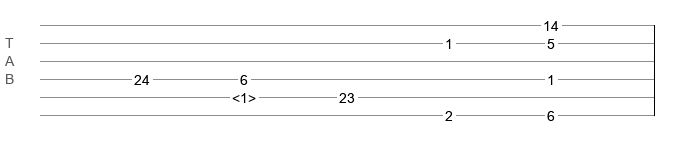1: (445, 36, 453, 46), (547, 72, 555, 82)
14: (543, 18, 559, 28)
2: (445, 108, 453, 118)
23: (339, 90, 355, 100)
24: (134, 72, 150, 82)
5: (547, 36, 555, 46)
6: (240, 72, 248, 82), (547, 108, 555, 118)
harmonic: (232, 90, 256, 100)
